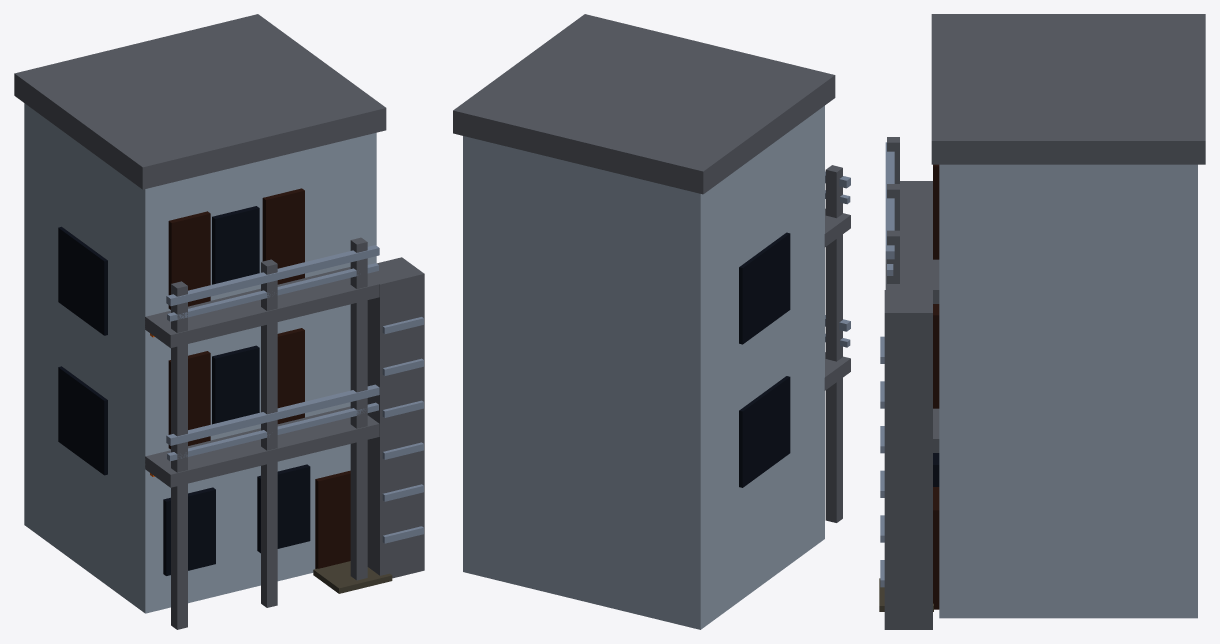
The model's file is walkup2.obj.
3 views of the same model, side by side, from view 1: azimuth 30°, elevation 25°; view 2: azimuth 150°, elevation 25°; view 3: azimuth 270°, elevation 25° (orthographic). The views are drawn at different scales.
Parts seen in each view (by area): view 1: body, roof, windows, external-stair, deck-posts, access-decks, flat-doors, railings, ground-entry, stair-treads, path; view 2: body, roof, windows, deck-posts, access-decks; view 3: body, roof, external-stair, access-decks, flat-doors, deck-posts, railings, ground-entry, stair-treads.
Part boxes in pixels (x1,y1,x2,y2): body: (24,103,376,613); roof: (14,14,386,189); windows: (58,206,310,575); external-stair: (367,257,424,578); deck-posts: (171,237,367,629); access-decks: (145,267,379,487); flat-doors: (168,188,304,449); railings: (166,245,379,461); ground-entry: (315,470,350,568); stair-treads: (382,317,423,543); path: (313,561,392,593); body: (463,106,824,629); roof: (453,14,835,194); windows: (739,232,790,487); deck-posts: (825,165,842,522); access-decks: (824,208,850,390); body: (939,164,1197,618); roof: (931,14,1205,164); external-stair: (884,290,932,629); access-decks: (885,181,939,452); flat-doors: (933,164,939,408); deck-posts: (887,137,899,283); railings: (885,142,894,275); ground-entry: (933,487,939,609); stair-treads: (880,336,884,587).
Size of the model in its own units: 2.92 by 4.84 by 2.98.
